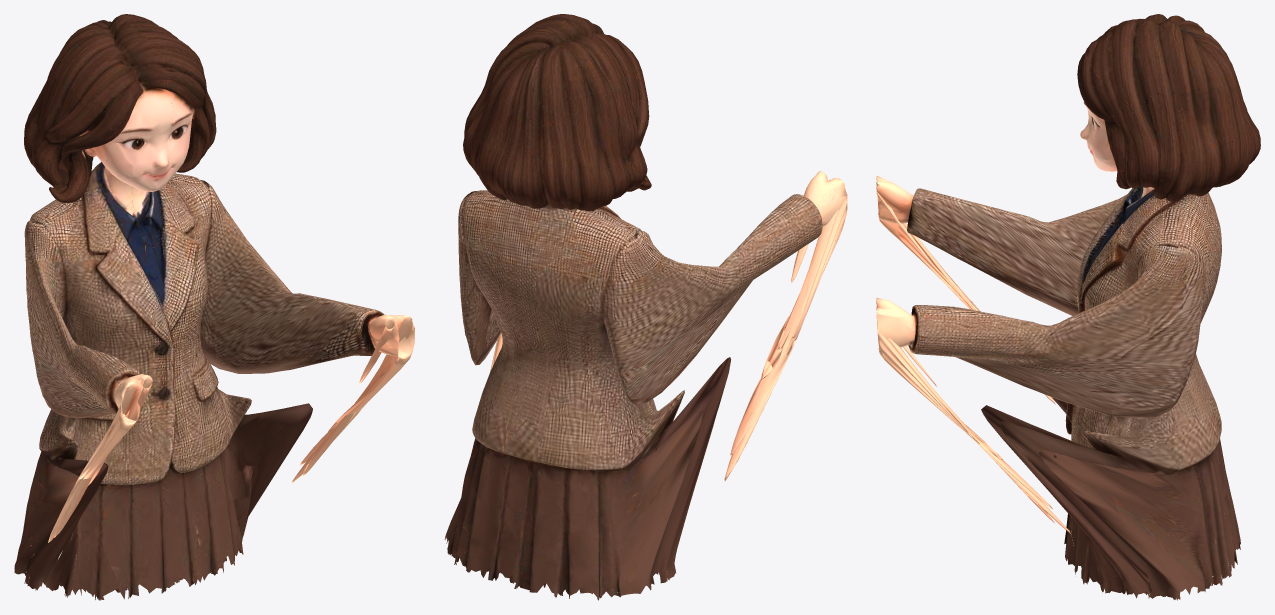
File: teacher-6-2.glb
3 views of the same model, side by side, from view 1: azimuth 30°, elevation 25°; view 2: azimuth 150°, elevation 25°; view 3: azimuth 270°, elevation 25° (orthographic).
Visible parts, largest first — view 1: teacher-6-2-운전자; view 2: teacher-6-2-운전자; view 3: teacher-6-2-운전자.
Boxes of the visible parts, x1,y1,x2,y2 form: teacher-6-2-운전자: (14, 14, 415, 600); teacher-6-2-운전자: (444, 14, 847, 600); teacher-6-2-운전자: (876, 14, 1260, 600).
Size of the model in its own units: 0.5469 by 0.95 by 0.626.
1 material, 1 textured.
